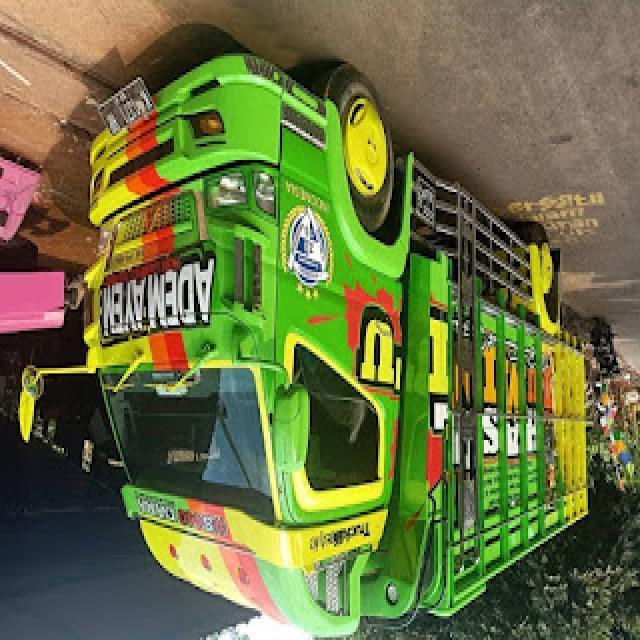truck: (20, 51, 588, 640)
